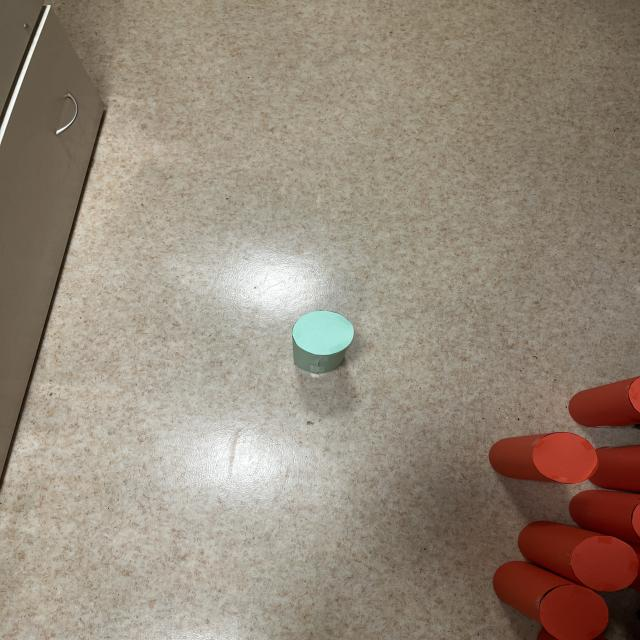meta: (292, 311, 354, 373)
